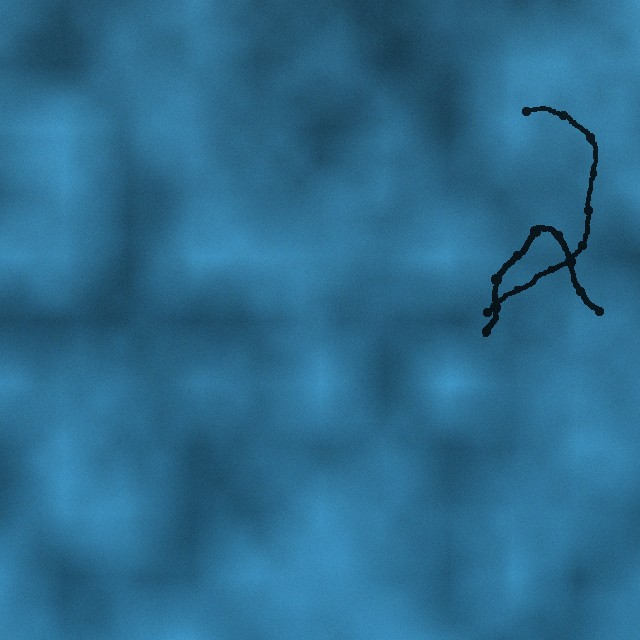crack: (483, 104, 600, 316), (480, 222, 604, 340)
